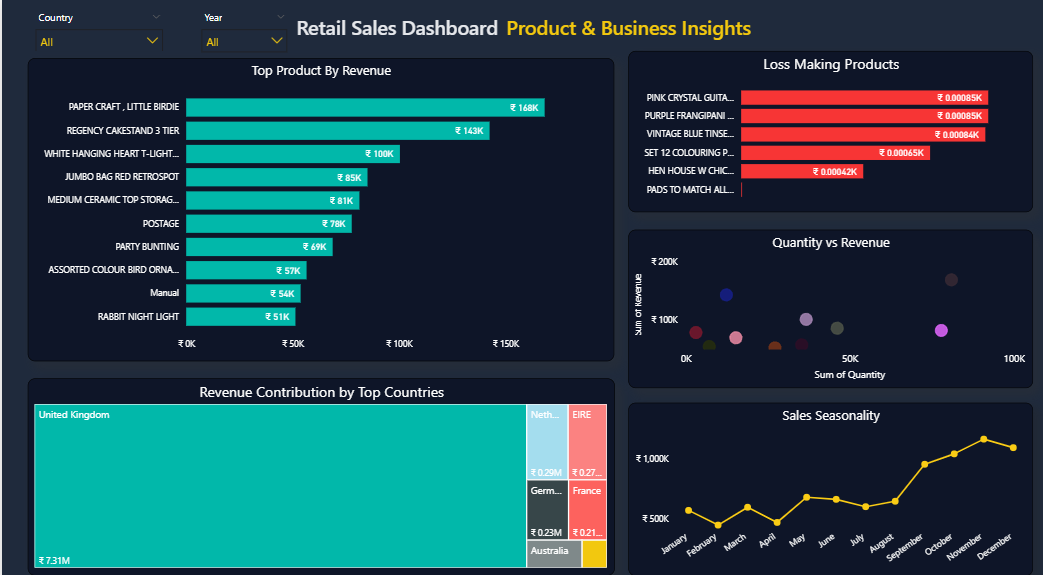

The dashboard page shown, as its layout file describes it:
{"tool":"powerbi","page":{"name":"Product Insights","canvas":[1280,720],"ordinal":2},"visuals":[{"type":"textbox","box":[0,0,1280,65.5],"z":2},{"type":"clusteredBarChart","title":"Top Product By Revenue","fields":{"Category":["cleaned_retail.Description"],"Y":["Sum(cleaned_retail.Revenue)"]},"box":[31.6,73.7,719.3,371.9],"z":3},{"type":"scatterChart","title":"Quantity vs Revenue","fields":{"X":["Sum(cleaned_retail.Quantity)"],"Y":["Sum(cleaned_retail.Revenue)"],"Category":["cleaned_retail.Description"]},"box":[768.4,284.2,496.5,194.7],"z":6},{"type":"clusteredBarChart","title":"Loss Making Products","fields":{"Category":["cleaned_retail.Description"],"Y":["Sum(cleaned_retail.Revenue)"]},"box":[769.1,65.5,496.4,198.2],"z":7},{"type":"lineChart","title":"Sales Seasonality","fields":{"Y":["Sum(cleaned_retail.Revenue)"],"Category":["cleaned_retail.InvoiceDate.Variation.Date Hierarchy.Month"]},"box":[769.1,496.4,496.4,212.7],"z":9},{"type":"treemap","title":"Revenue Contribution by Top Countries","fields":{"Group":["cleaned_retail.Country"],"Values":["Sum(cleaned_retail.Revenue)"]},"box":[30.9,467.3,720,241.8],"z":10},{"type":"slicer","fields":{"Values":["cleaned_retail.Country"]},"box":[31.6,10.5,175.4,54.4],"z":11},{"type":"slicer","fields":{"Values":["cleaned_retail.Year"]},"box":[235.1,10.5,124.6,63.2],"z":12}]}

Visuals, with their boxes in screenshot pixels (x1, y1, x2, y2), scaled from the page's 1280x720 canvas onto the 1043x575 screenshot:
textbox: BBox(0, 0, 1042, 52)
"Top Product By Revenue" clusteredBarChart: BBox(26, 59, 612, 356)
"Quantity vs Revenue" scatterChart: BBox(626, 227, 1031, 382)
"Loss Making Products" clusteredBarChart: BBox(627, 52, 1031, 211)
"Sales Seasonality" lineChart: BBox(627, 396, 1031, 566)
"Revenue Contribution by Top Countries" treemap: BBox(25, 373, 612, 566)
slicer - cleaned_retail.Country: BBox(26, 8, 169, 52)
slicer - cleaned_retail.Year: BBox(192, 8, 293, 59)
